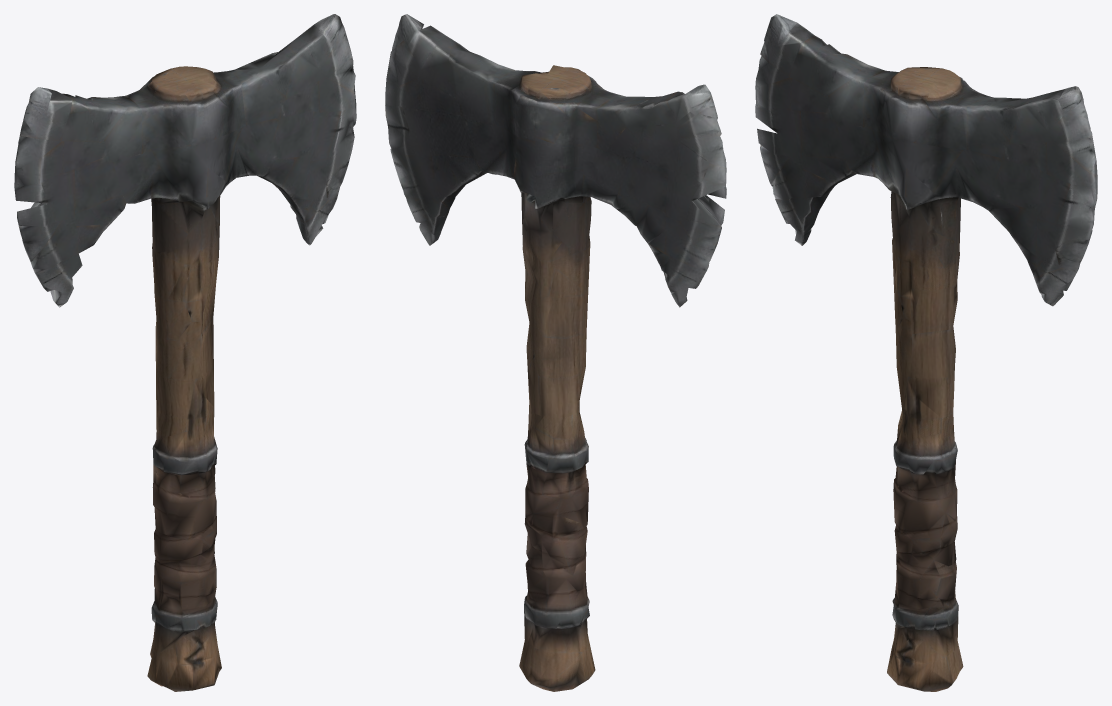
Rendered from 1400_war_axe.glb.
3 renders of one model, left to right at view 1: azimuth 30°, elevation 25°; view 2: azimuth 150°, elevation 25°; view 3: azimuth 330°, elevation 25°, orthographic.
Visible parts, largest first — view 1: Model; view 2: Model; view 3: Model.
Boxes of the visible parts, x1=… form: Model: x1=14, y1=14, x2=356, y2=691; Model: x1=385, y1=14, x2=726, y2=691; Model: x1=755, y1=14, x2=1097, y2=691.
Bounding box in the file's own units: 0.5616 × 1 × 0.1204.
Materials: 1 (1 with a texture image).
